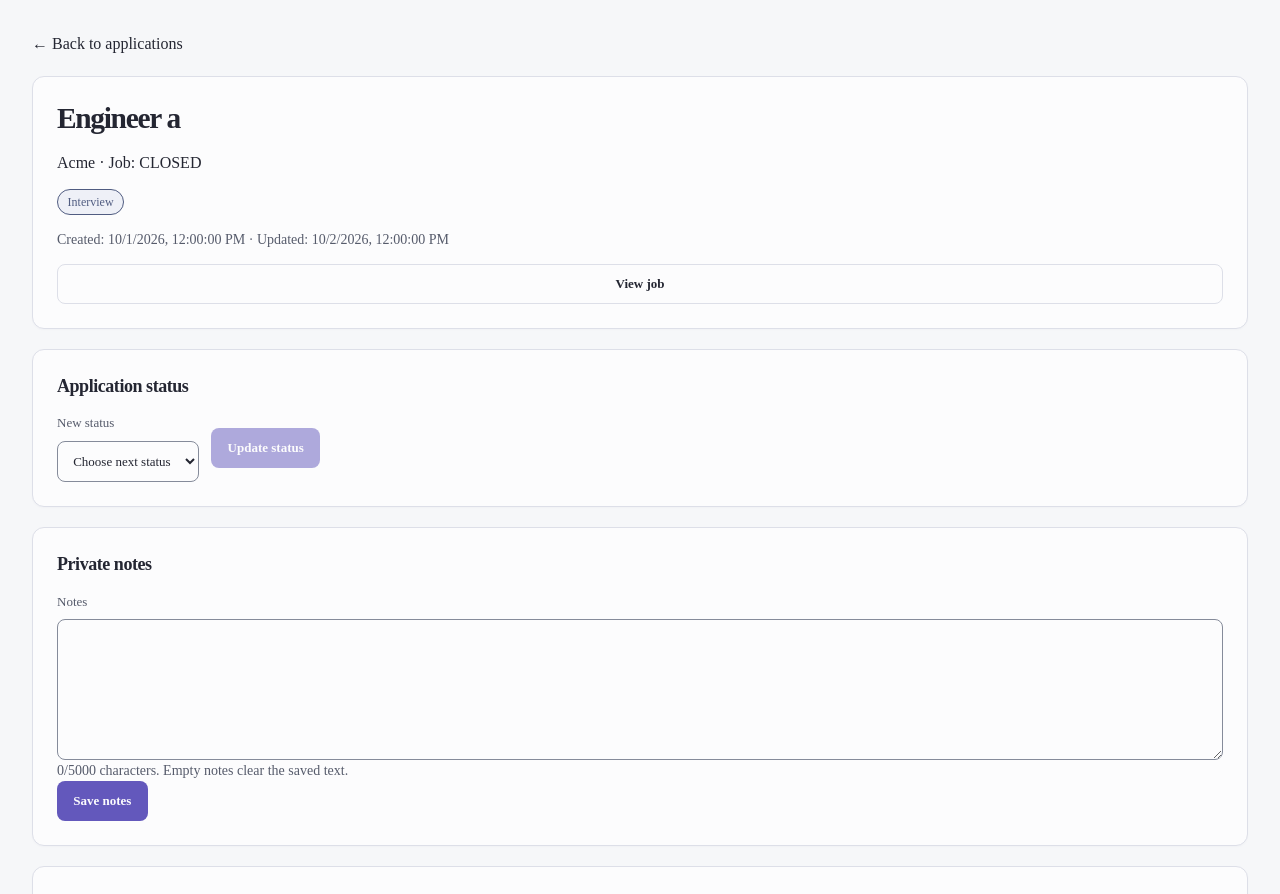
offers Applied for Interview and renders the backend persisted correction/history
Select "Applied" in the dropdown labelled "New status": (128, 462) [57,441,199,482]
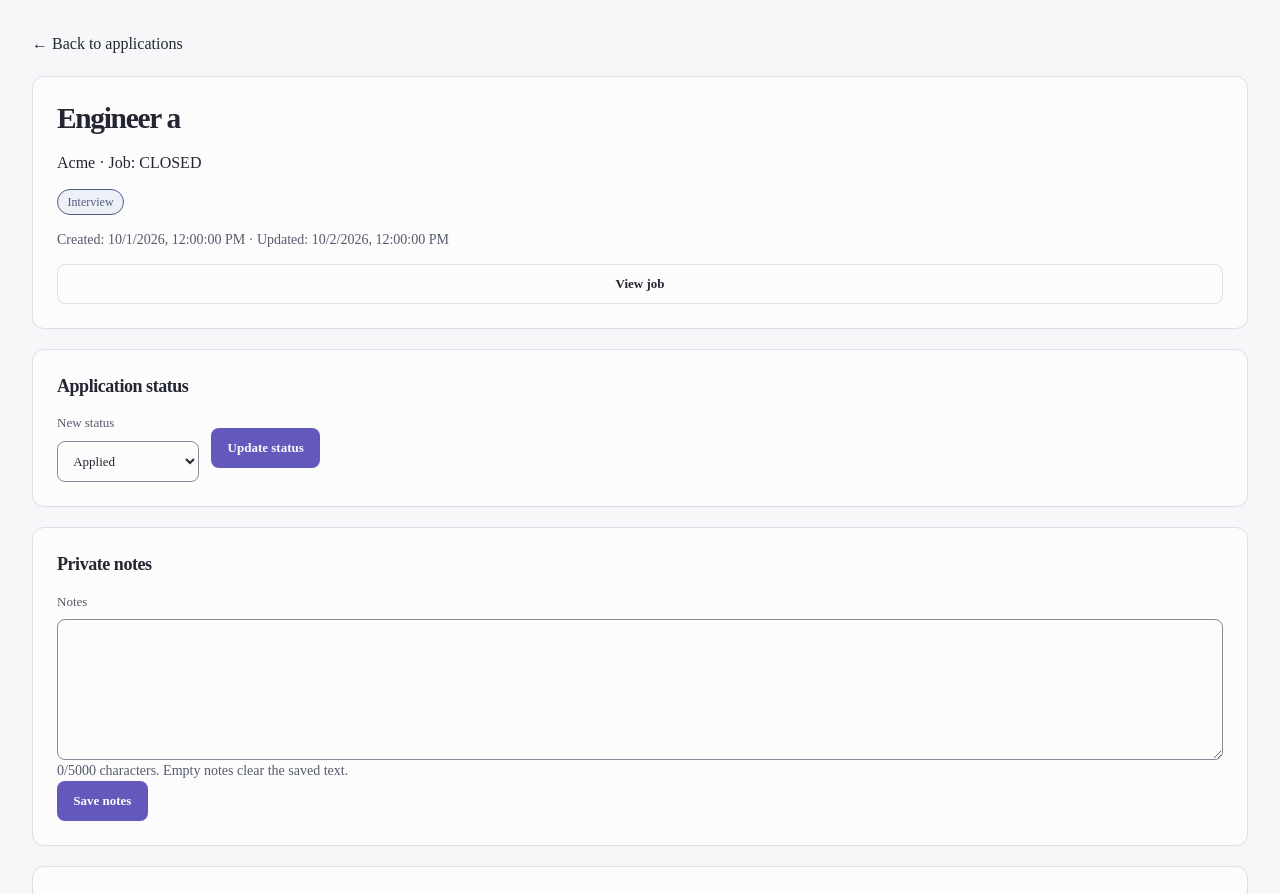
Click the button "Update status": (266, 448) [211,428,320,468]
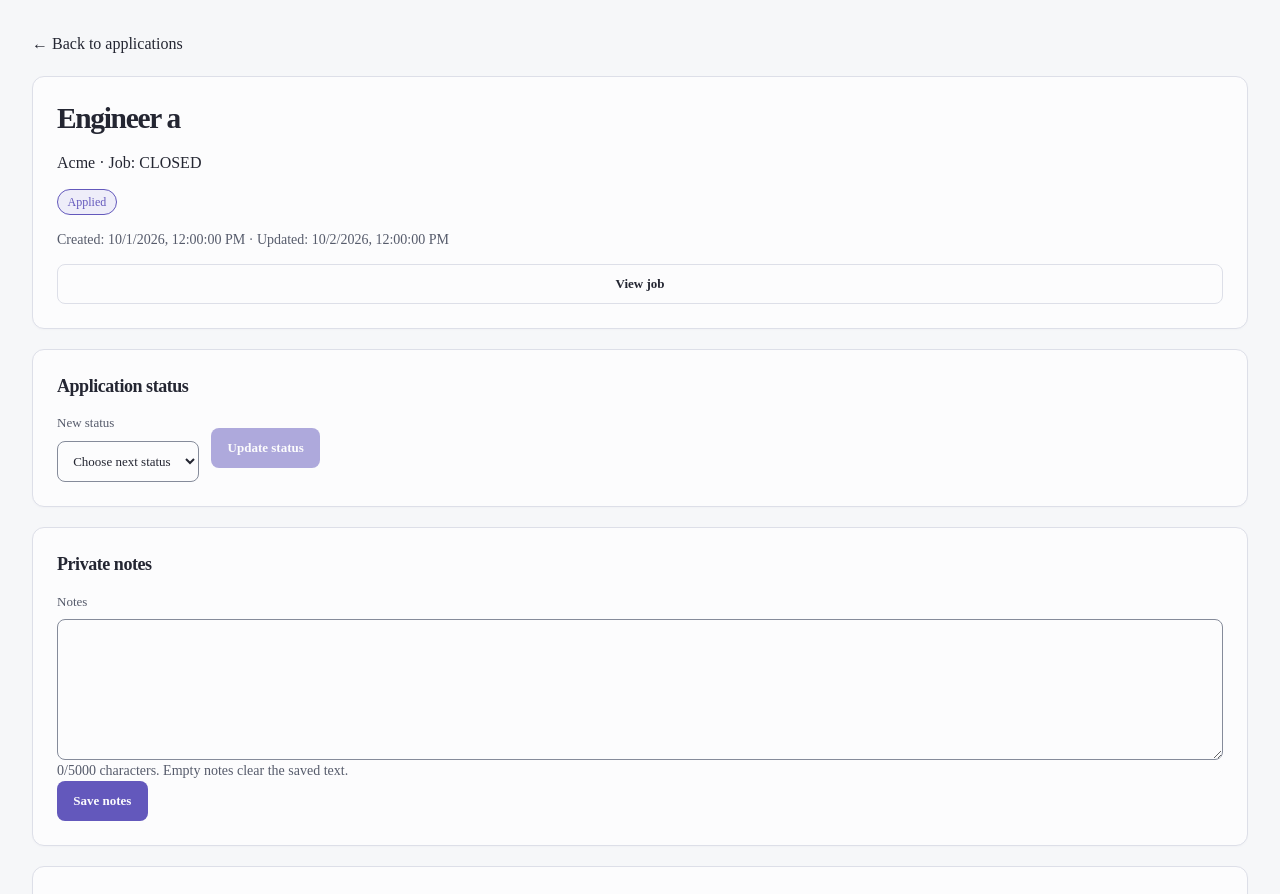
expect the text "Applied" is shown: met, box [57,189,117,215]
